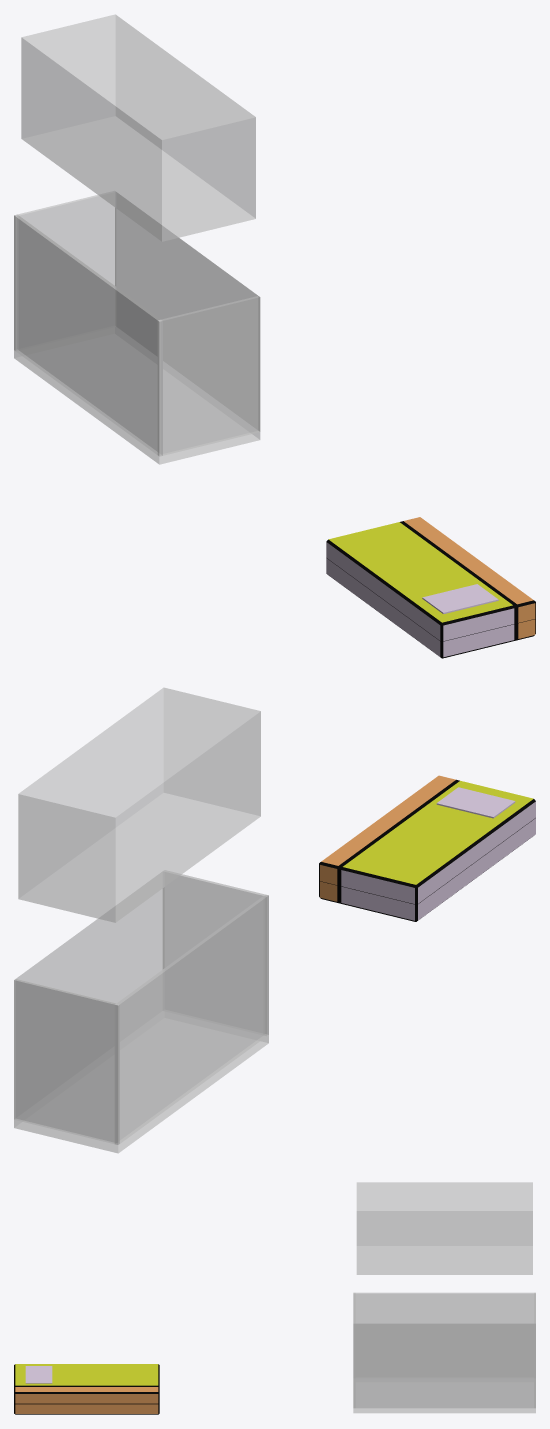
The model's file is book.glb.
The picture shows the model from 3 angles, top to bottom: view 1: azimuth 30°, elevation 25°; view 2: azimuth 150°, elevation 25°; view 3: azimuth 270°, elevation 25°; orthographic projection. The views are drawn at different scales.
Parts seen in each view (by area): view 1: Cube; view 2: Cube; view 3: Cube.
Boxes of the visible parts, x1,y1,x2,y2 form: Cube: [14, 14, 535, 658]; Cube: [14, 687, 535, 1153]; Cube: [14, 1182, 535, 1414].
Bounding box in the file's own units: 1.05 × 3.02 × 7.09.
